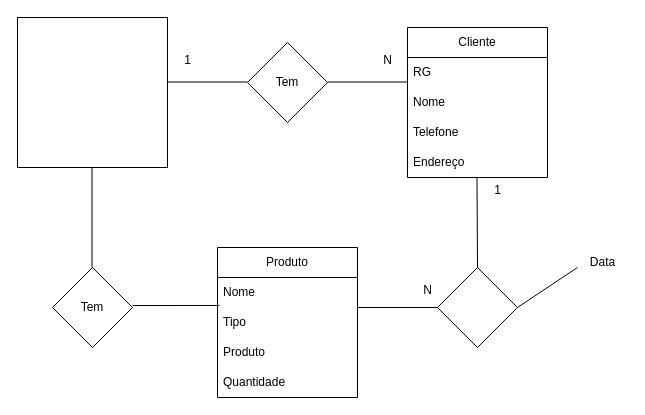
The diagram is 645 pixels wide and 415 high, and some of its shapes have lost their labels. The box of each missing label's shape, as (x1, y1, x2, y2) in pixels:
Compra: (436, 266, 518, 348)
Floricultura: (16, 16, 168, 168)
